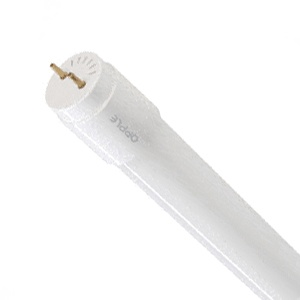Light_bulb: (42, 47, 300, 300)
